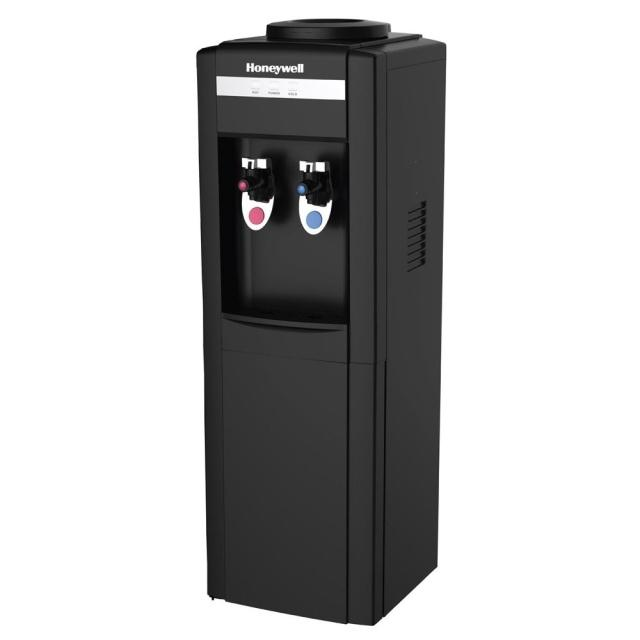Dispenser: (196, 18, 446, 626)
